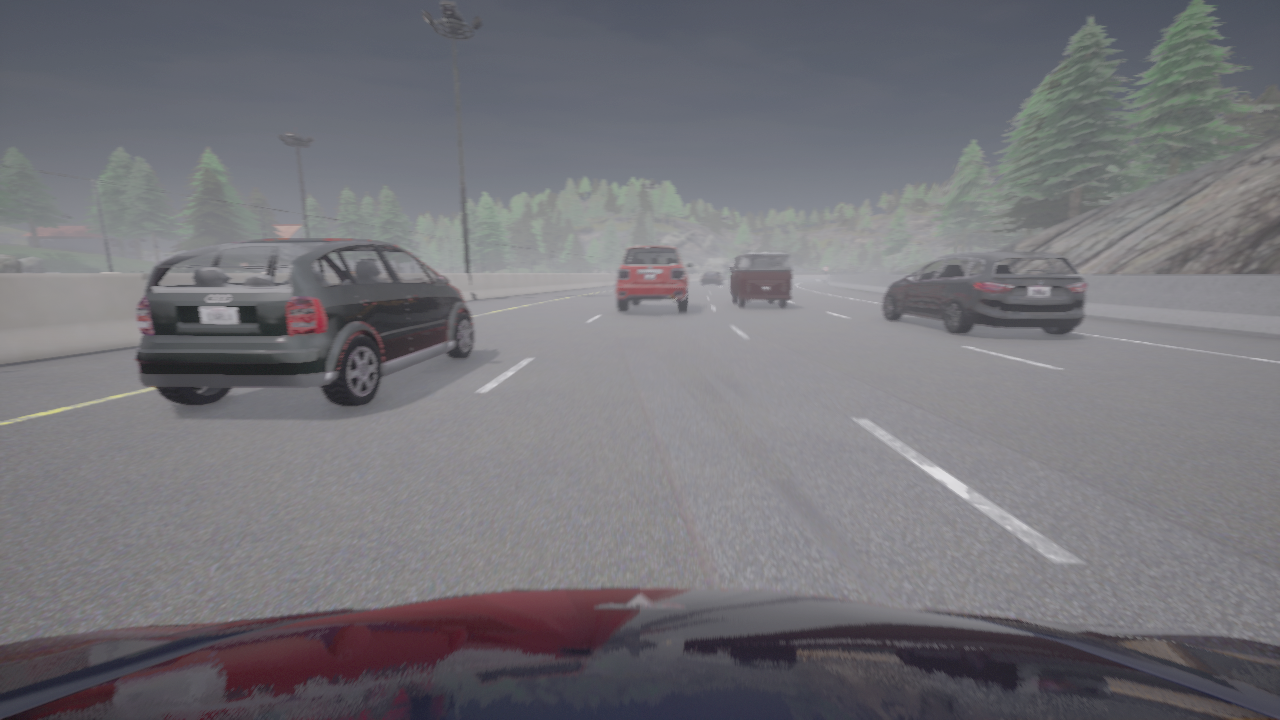cyclist: (0, 588, 1279, 719), (135, 239, 473, 407), (883, 251, 1086, 335), (616, 245, 692, 312), (730, 252, 791, 307), (701, 272, 722, 284)
